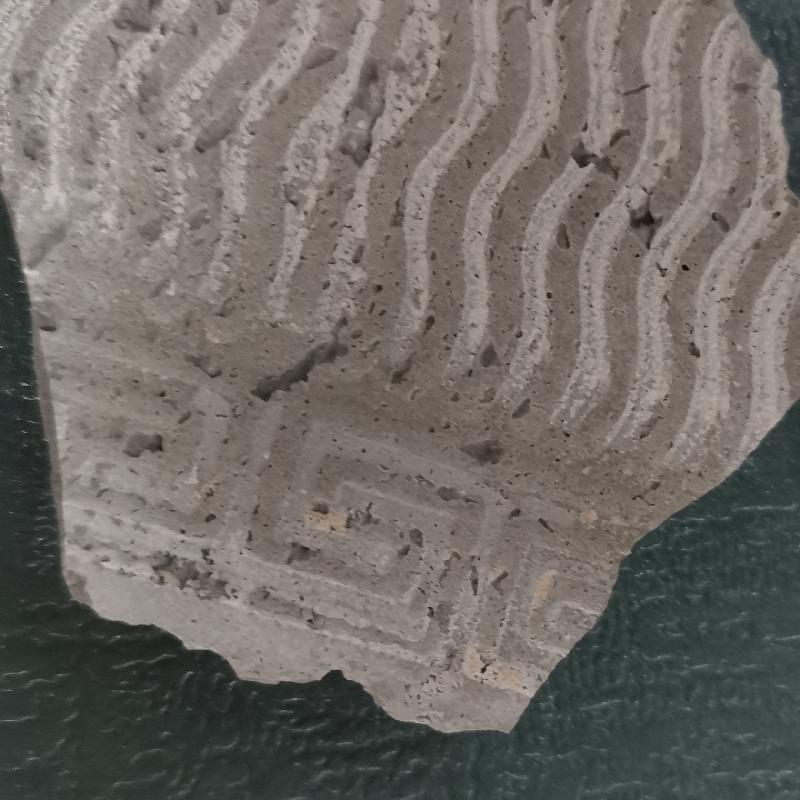tile: (5, 2, 798, 740)
